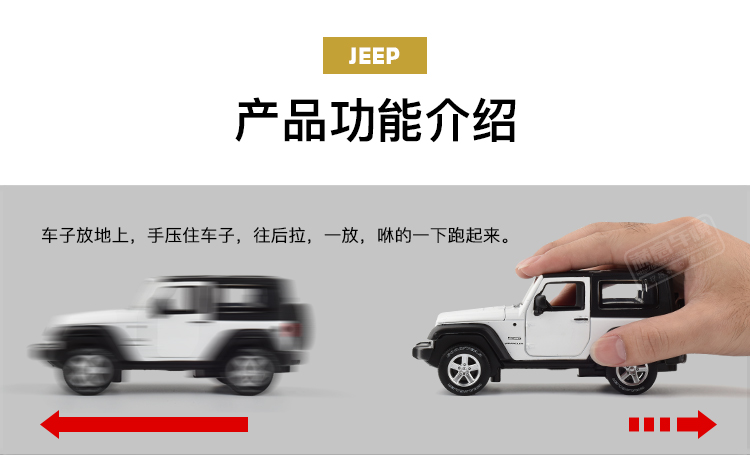Car: (397, 259, 717, 417), (26, 265, 323, 405)
